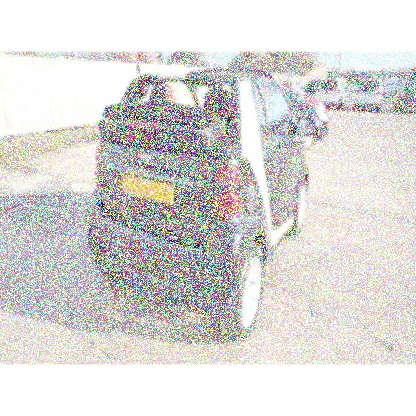Vehicle: (89, 67, 312, 342)
